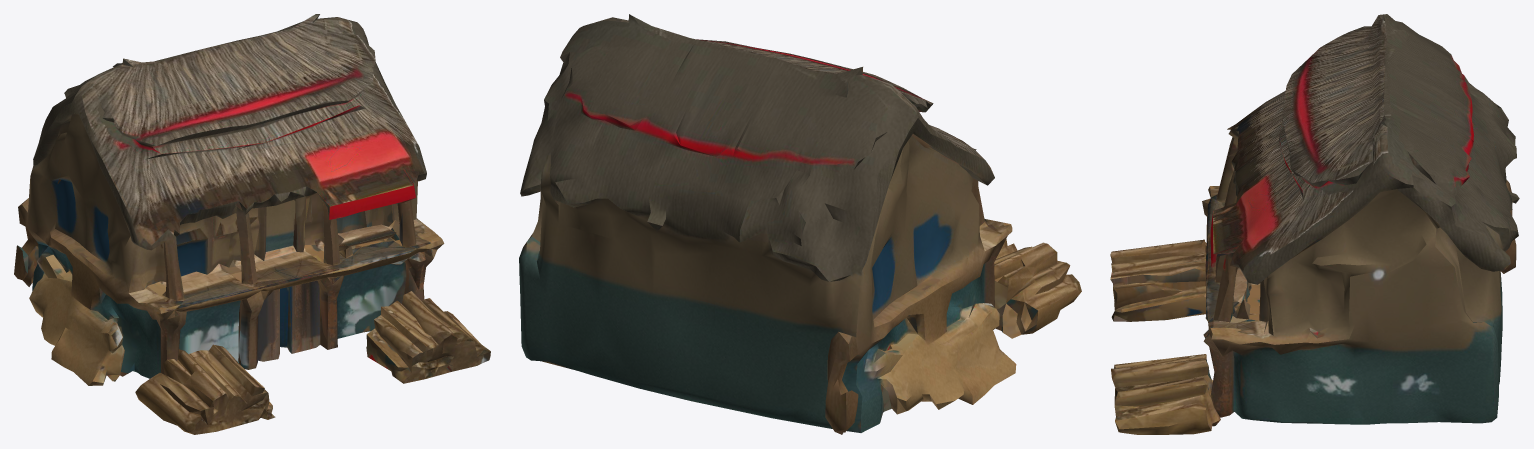
Rendered from guaranies_taller.glb.
3 views of the same model, side by side, from view 1: azimuth 30°, elevation 25°; view 2: azimuth 150°, elevation 25°; view 3: azimuth 270°, elevation 25° (orthographic). The views are drawn at different scales.
Parts seen in each view (by area): view 1: geometry_0; view 2: geometry_0; view 3: geometry_0.
Boxes of the visible parts, x1,y1,x2,y2 form: geometry_0: [14, 14, 490, 434]; geometry_0: [519, 14, 1081, 434]; geometry_0: [1110, 14, 1519, 434].
Bounding box in the file's own units: 2.4 × 1.9 × 2.4.
Materials: 1 (1 with a texture image).
